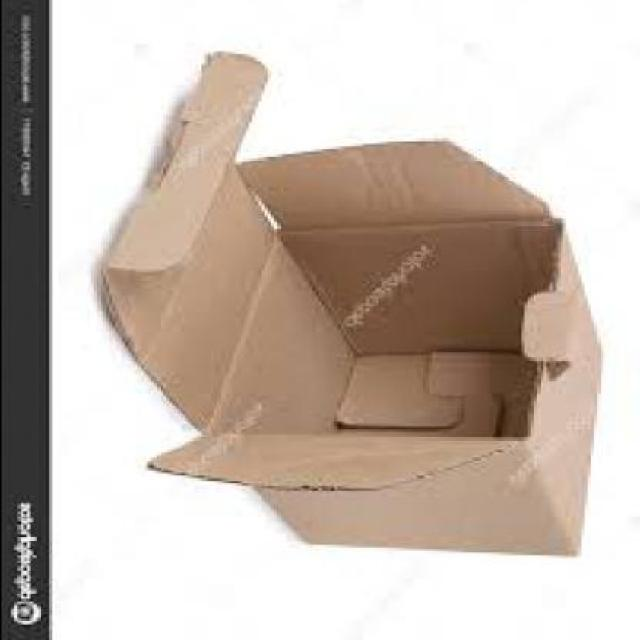CARDBOARD: (97, 52, 603, 558)
